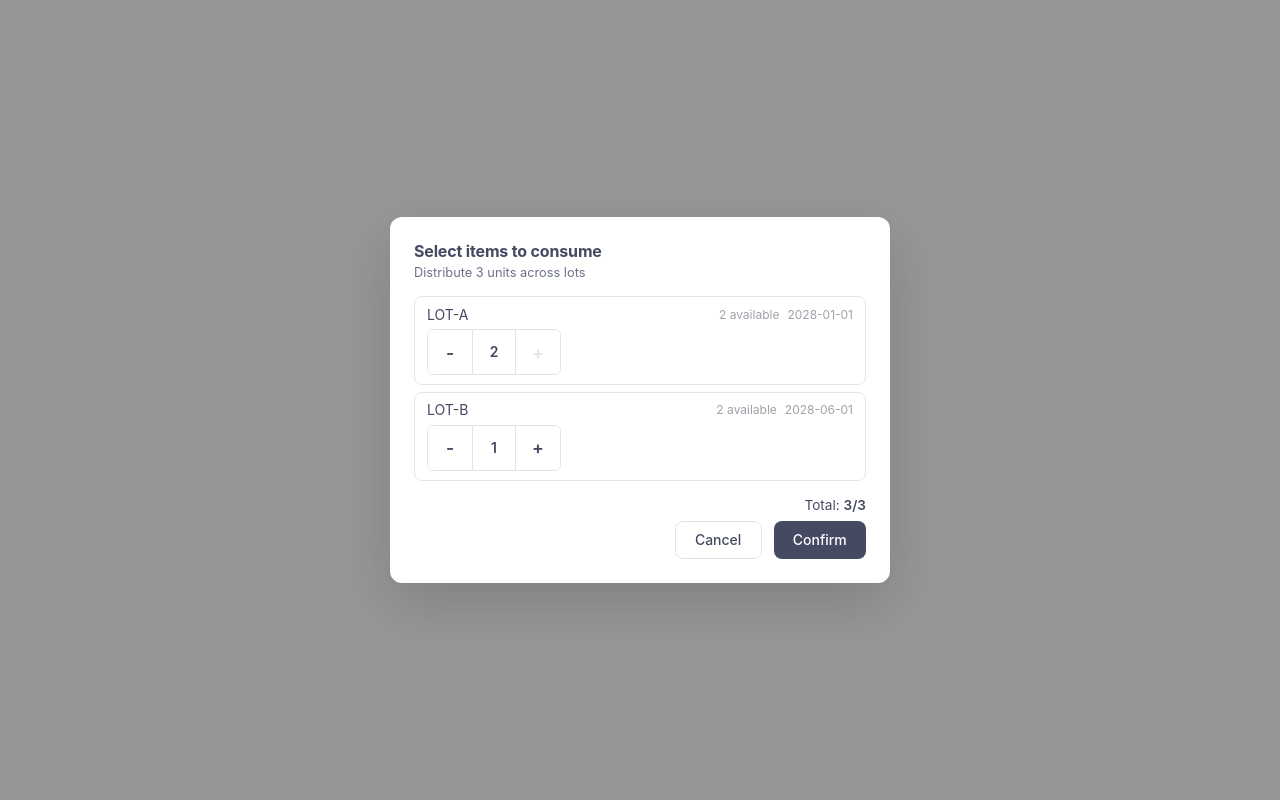
it: LotConsumeModal — pack step › goes back from the second pack step to the first, not to the lot list
Click the button "Confirm": {"x": 820, "y": 540} x1=774 y1=521 x2=866 y2=559
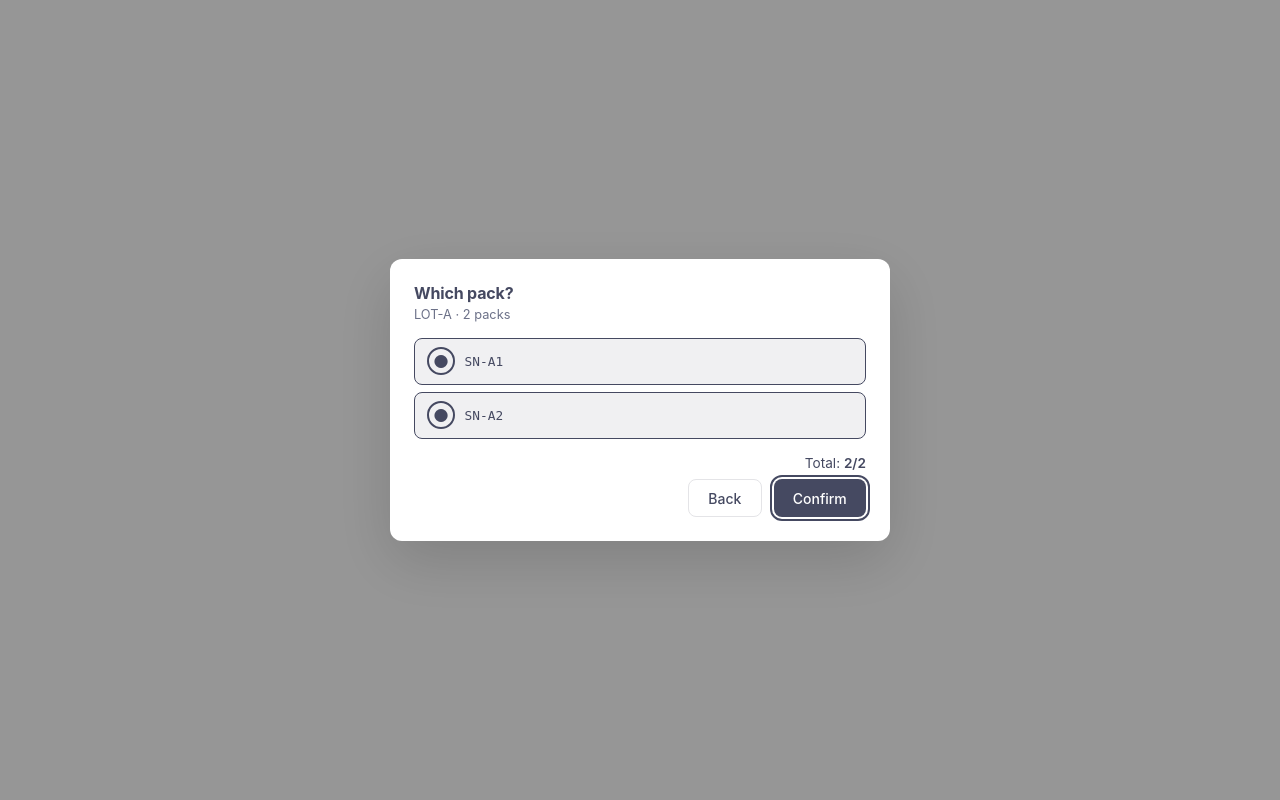
Click the button with test id "pack-confirm": {"x": 820, "y": 498} x1=774 y1=479 x2=866 y2=517
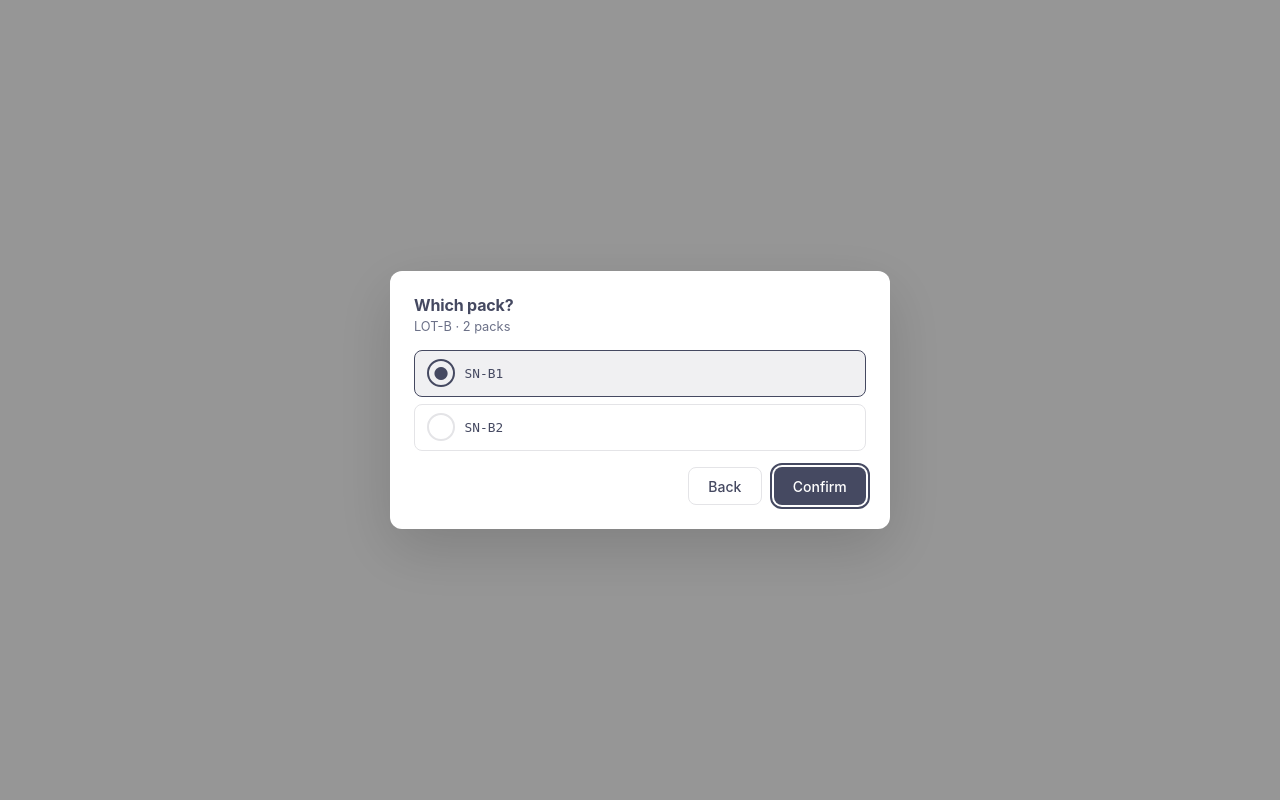
Expected: the text "SN-B1" is shown, x1=465 y1=366 x2=503 y2=381
Click the button "Back": {"x": 725, "y": 486} x1=688 y1=467 x2=762 y2=505
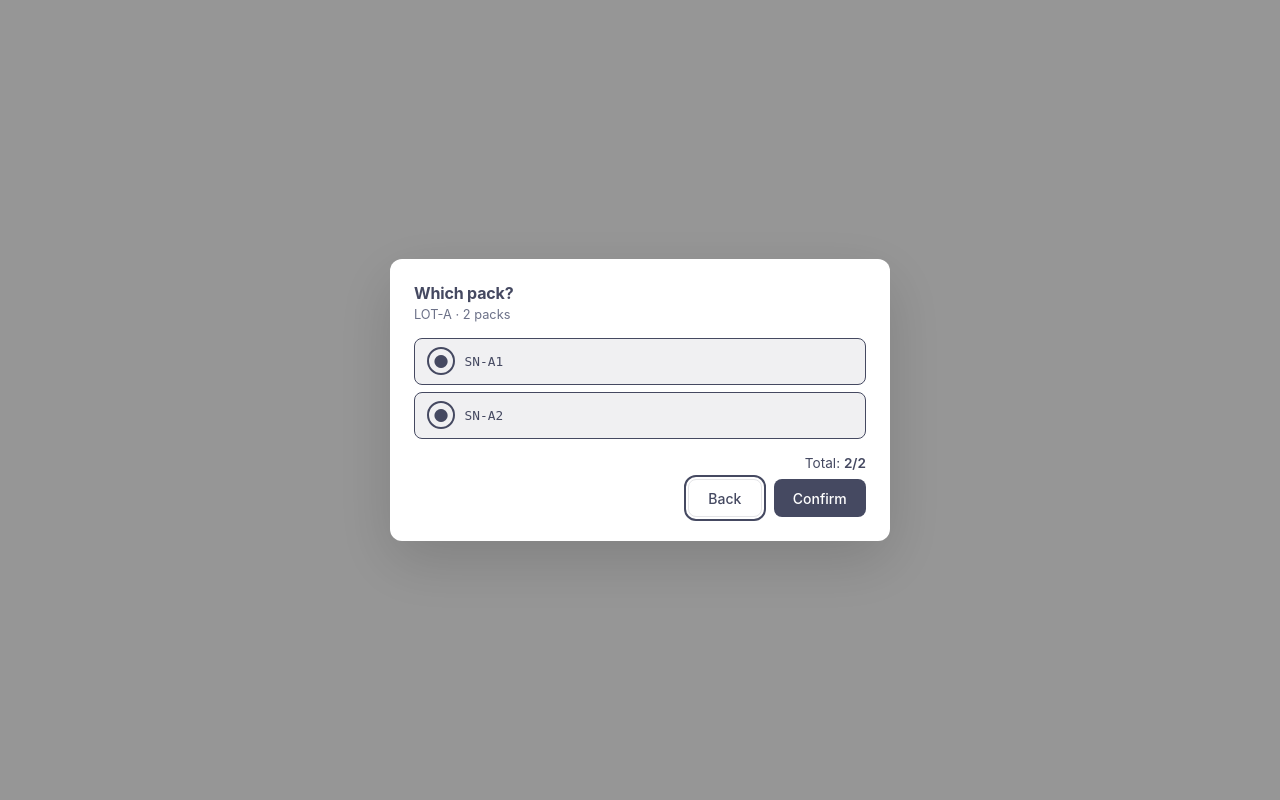
Expected: the text "SN-A1" is shown, x1=465 y1=354 x2=503 y2=369
Expected: the radio button "SN-B1" is gone
